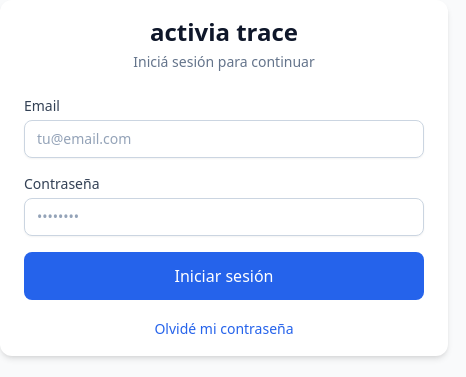
LoginPage › shows loading state on submit
The image size is (466, 377).
Check: the button "Iniciar sesión" is shown, box [24, 252, 424, 300]
Type "user@test.com" into the field labelled "Email" at (224, 139), box [24, 120, 424, 158]
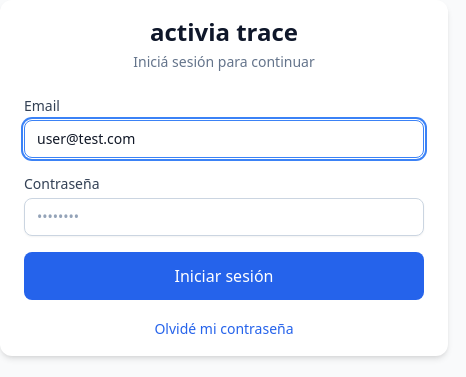
Type "password" into the password field labelled "Contraseña" at (224, 217), box [24, 198, 424, 236]
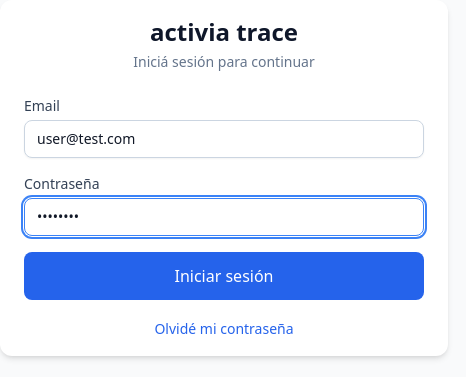
Click the button "Iniciar sesión" at (224, 276), box [24, 252, 424, 300]
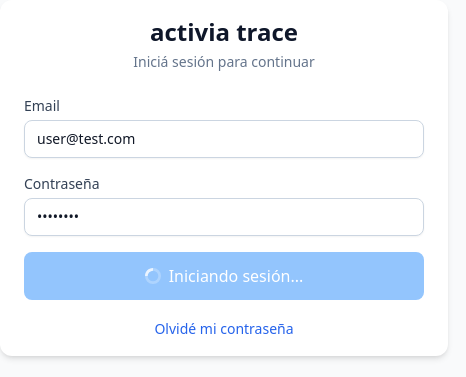
Check: the button "Iniciando sesión..." is disabled, box [24, 252, 424, 300]
